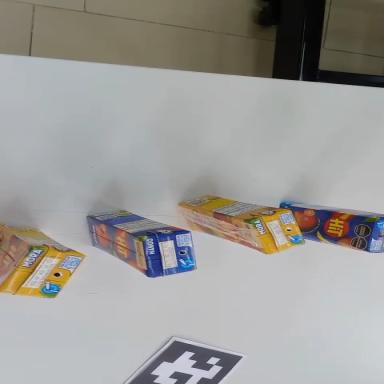HIT-MANGO: (75, 200, 206, 290), (275, 200, 384, 254)
HIT-MORA: (173, 190, 309, 260), (0, 223, 88, 306)
cara_F: (74, 216, 160, 277), (173, 204, 272, 254), (275, 204, 377, 252), (0, 224, 33, 288)
